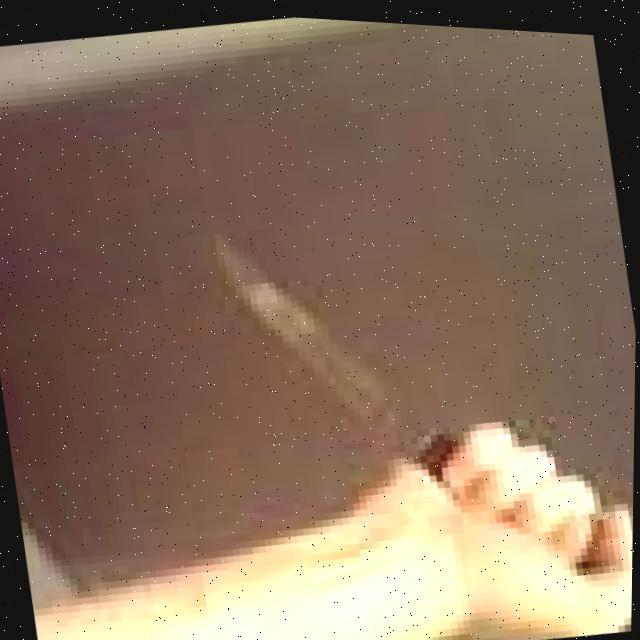knife: (156, 201, 473, 497)
